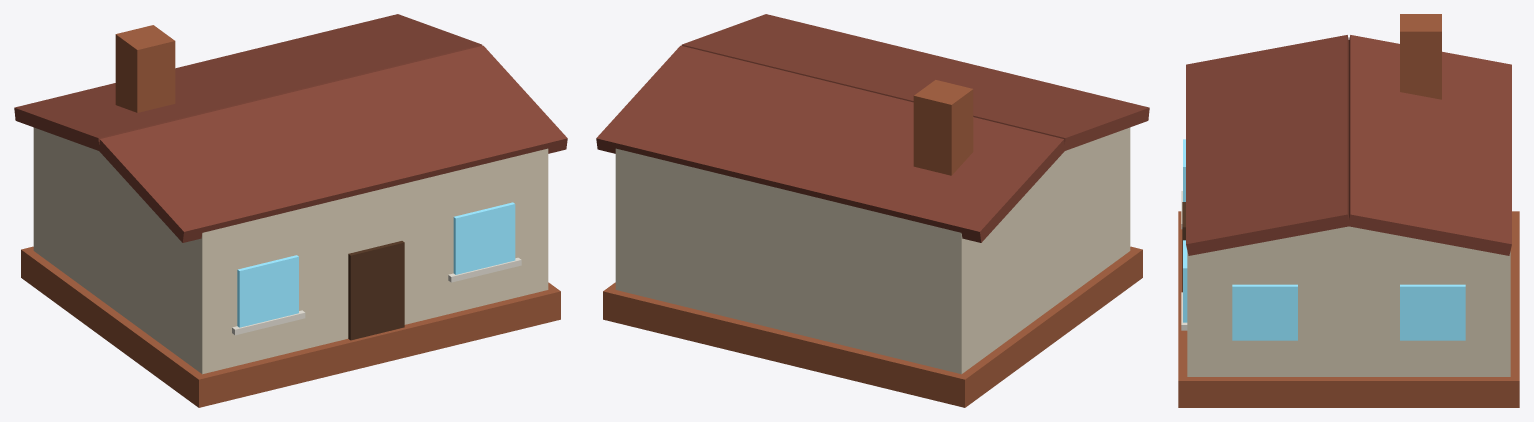
Rendered from house.gltf.
3 views of the same model, side by side, from view 1: azimuth 30°, elevation 25°; view 2: azimuth 150°, elevation 25°; view 3: azimuth 270°, elevation 25° (orthographic). The views are drawn at different scales.
Visible parts, largest first — view 1: house; view 2: house; view 3: house.
Boxes of the visible parts, left/top/right/bottom form: house: left=14, top=14, right=567, bottom=407; house: left=596, top=14, right=1149, bottom=407; house: left=1178, top=14, right=1519, bottom=407.
Size of the model in its own units: 7.1 by 4.6 by 5.7.
